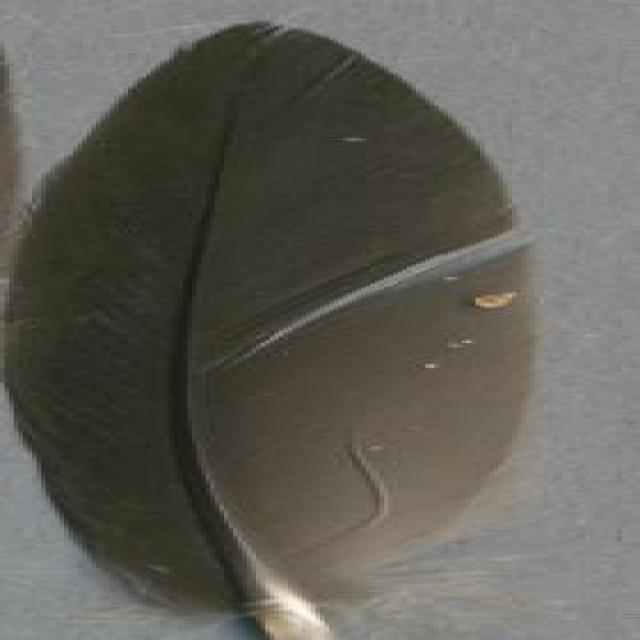feather: (0, 19, 541, 640)
